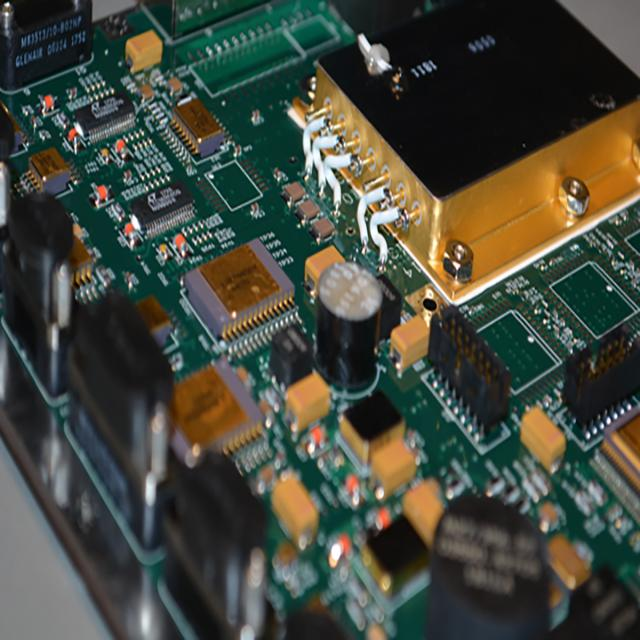pcb: (1, 1, 638, 637), (307, 0, 638, 307), (427, 303, 512, 435), (314, 259, 383, 387), (0, 0, 93, 92), (128, 177, 195, 238), (172, 94, 224, 158)
